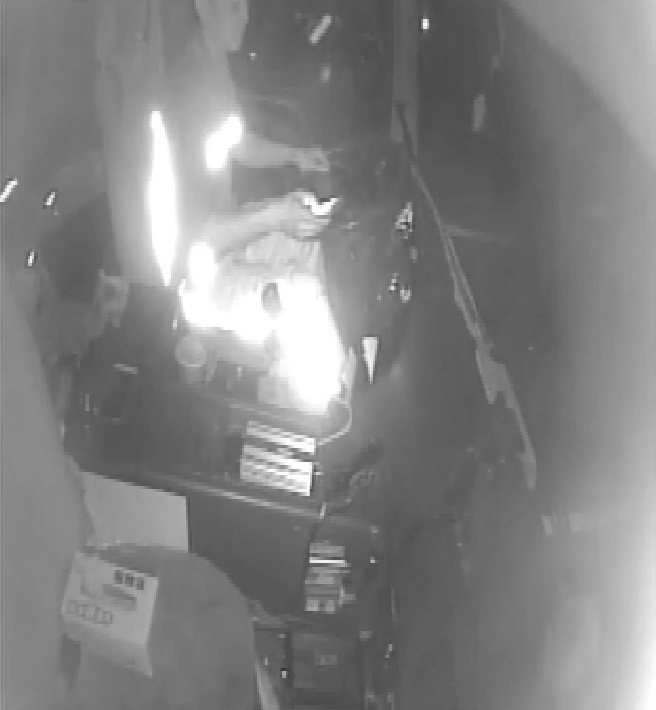cellphone: (296, 189, 343, 228)
